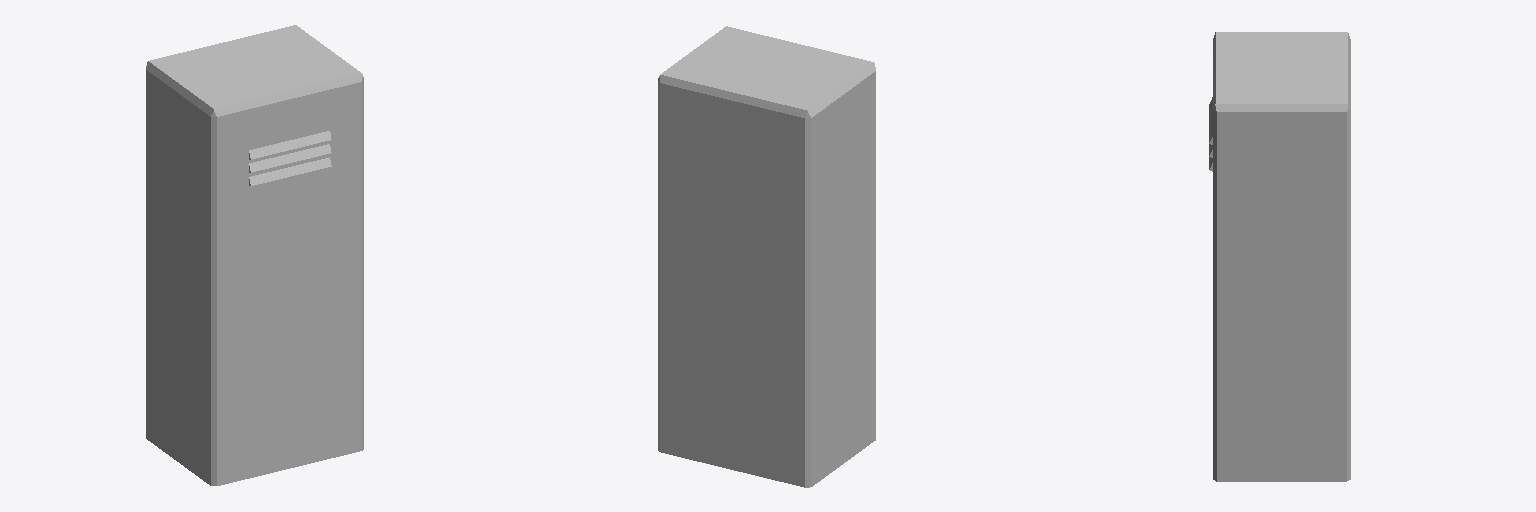
Rendered from locker.obj.
3 views of the same model, side by side, from view 1: azimuth 30°, elevation 25°; view 2: azimuth 150°, elevation 25°; view 3: azimuth 270°, elevation 25° (orthographic).
Parts seen in each view (by area): view 1: Cube_Cube.001; view 2: Cube_Cube.001; view 3: Cube_Cube.001.
Boxes of the visible parts, x1,y1,x2,y2 form: Cube_Cube.001: [146, 25, 363, 485]; Cube_Cube.001: [658, 26, 875, 487]; Cube_Cube.001: [1209, 32, 1350, 481].
Size of the model in its own units: 0.4415 by 1.03 by 0.3517.